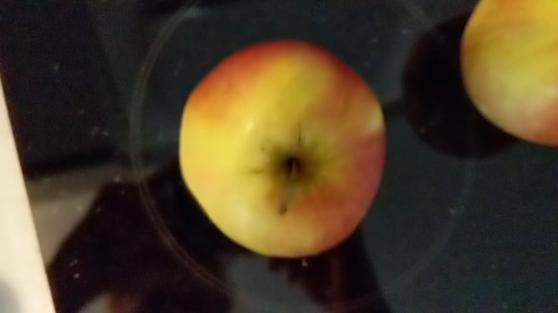apple: (178, 40, 392, 258), (457, 1, 556, 145)
